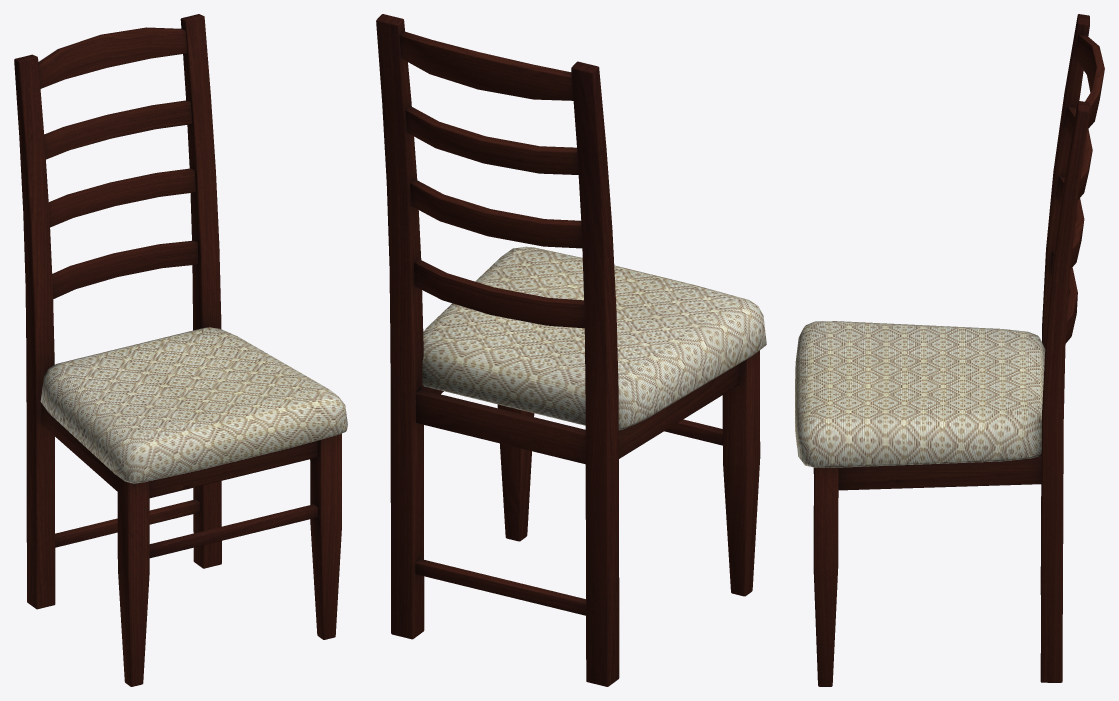
File: silla4.obj
3 views of the same model, side by side, from view 1: azimuth 30°, elevation 25°; view 2: azimuth 150°, elevation 25°; view 3: azimuth 270°, elevation 25° (orthographic). The views are drawn at different scales.
Parts seen in each view (by area): view 1: 10214_Armless_Dinner_Chair_v2_max2011; view 2: 10214_Armless_Dinner_Chair_v2_max2011; view 3: 10214_Armless_Dinner_Chair_v2_max2011.
Boxes of the visible parts, box(x1,y1,x2,y2) form: 10214_Armless_Dinner_Chair_v2_max2011: box(14, 14, 347, 686); 10214_Armless_Dinner_Chair_v2_max2011: box(376, 14, 766, 686); 10214_Armless_Dinner_Chair_v2_max2011: box(795, 14, 1104, 686).
Size of the model in its own units: 44.11 by 100 by 49.18.
Materials: 1 (1 with a texture image).
